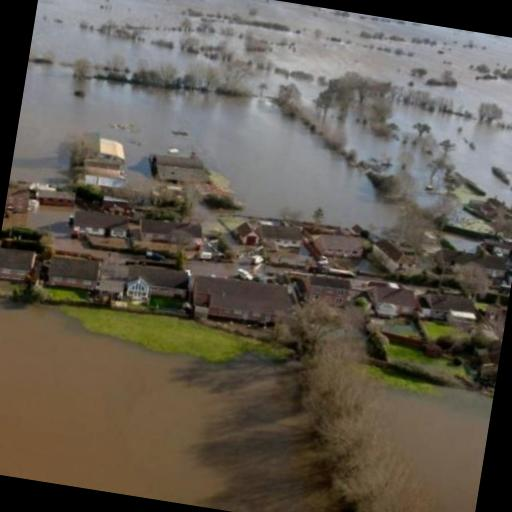flood: (9, 0, 512, 228), (0, 306, 340, 512), (385, 390, 492, 512)
house: (188, 270, 296, 332), (121, 260, 189, 308), (134, 213, 202, 253), (45, 251, 103, 296), (364, 282, 422, 322), (68, 208, 130, 242), (74, 133, 128, 170), (254, 220, 304, 254), (314, 230, 367, 262), (0, 244, 38, 284)
